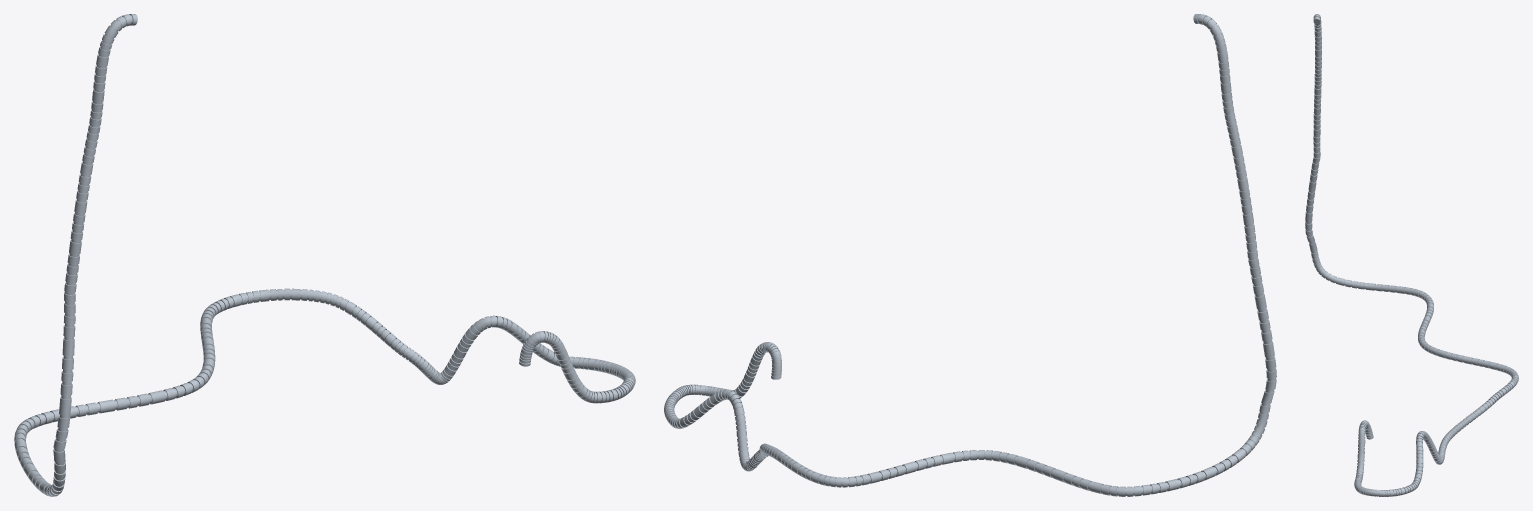
Rendered from SM_Cable_1_Splines_22.fbx.
3 renders of one model, left to right at view 1: azimuth 30°, elevation 25°; view 2: azimuth 150°, elevation 25°; view 3: azimuth 270°, elevation 25°, orthographic. The views are drawn at different scales.
Parts seen in each view (by area): view 1: SM_Cable_1_Splines_22; view 2: SM_Cable_1_Splines_22; view 3: SM_Cable_1_Splines_22.
Part boxes in pixels (<box>): SM_Cable_1_Splines_22: <box>14,14,635,496</box>; SM_Cable_1_Splines_22: <box>664,14,1276,496</box>; SM_Cable_1_Splines_22: <box>1305,14,1518,496</box>.
Bounding box in the file's own units: 358 × 175 × 296.
